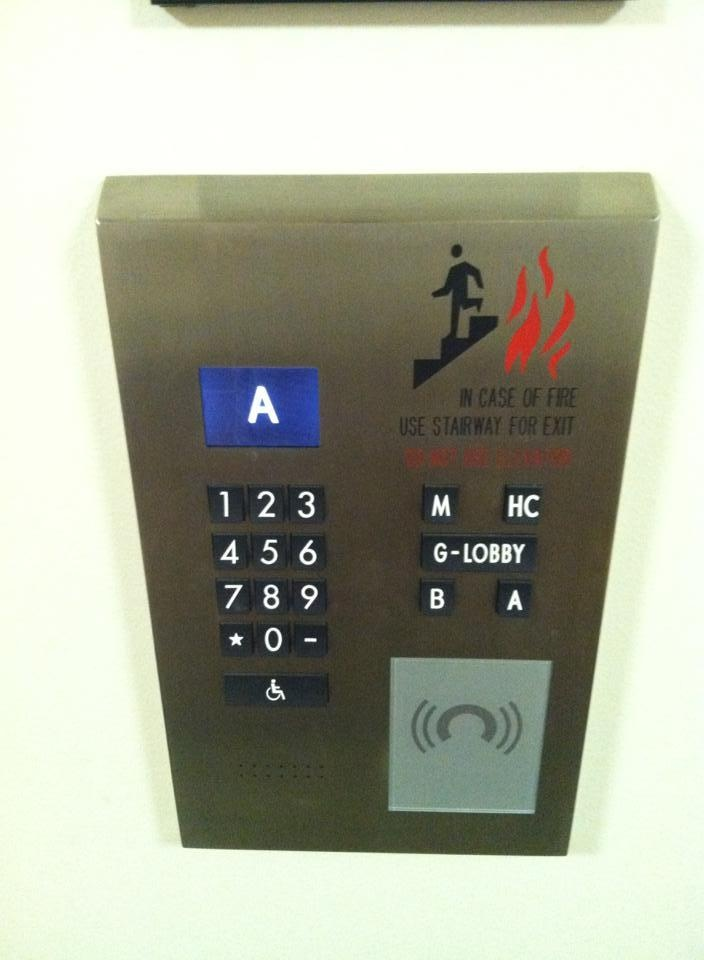-: (291, 620, 328, 659)
0: (256, 620, 293, 659)
1: (208, 485, 245, 524)
2: (246, 483, 290, 524)
3: (285, 484, 325, 524)
4: (210, 530, 253, 571)
5: (250, 530, 291, 572)
6: (289, 533, 327, 572)
7: (214, 576, 255, 616)
8: (253, 576, 292, 616)
9: (289, 576, 327, 616)
A: (494, 579, 535, 618)
B: (420, 578, 457, 620)
CH: (224, 673, 331, 708)
HC: (501, 483, 545, 525)
M: (422, 484, 460, 523)
led: (197, 366, 318, 450)
s: (218, 620, 258, 658)
text: (420, 532, 539, 573)
